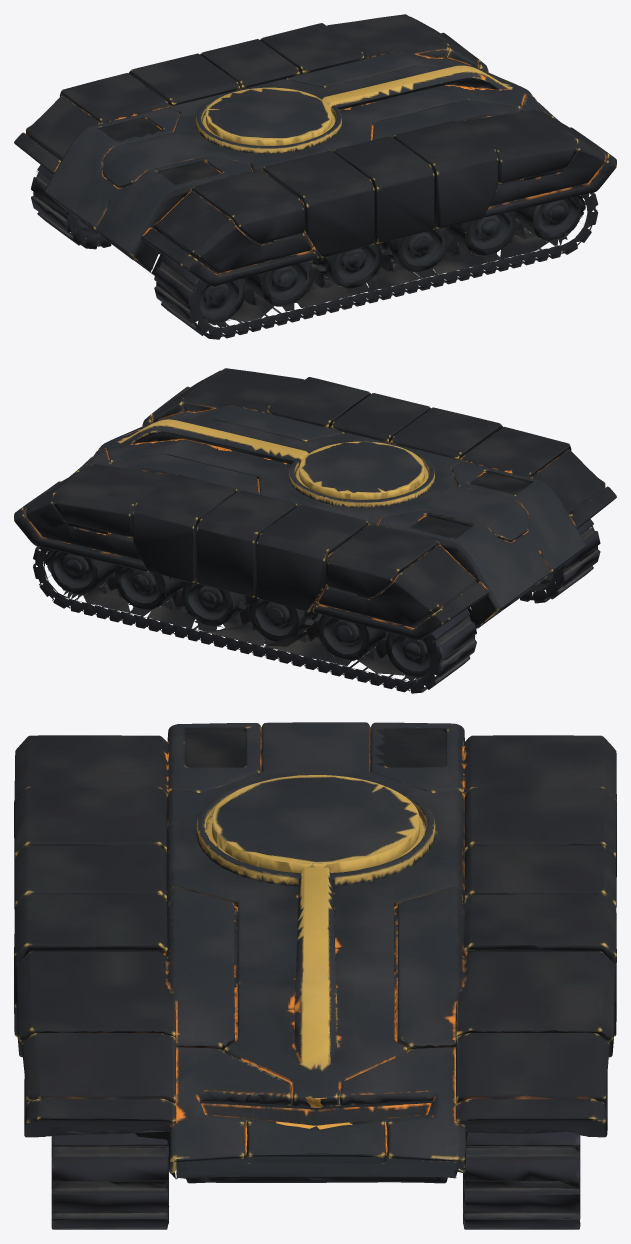
File: chassis-vanguard-2-full.glb
3 views of the same model, one above another, from view 1: azimuth 30°, elevation 25°; view 2: azimuth 150°, elevation 25°; view 3: azimuth 270°, elevation 25° (orthographic). The views are drawn at different scales.
Visible parts, largest first — view 1: chassis-vanguard-2-full; view 2: chassis-vanguard-2-full; view 3: chassis-vanguard-2-full.
Boxes of the visible parts, <box> form: chassis-vanguard-2-full: <box>14,14,616,339</box>; chassis-vanguard-2-full: <box>14,368,616,693</box>; chassis-vanguard-2-full: <box>14,722,616,1229</box>.
Bounding box in the file's own units: 2.7 × 0.7735 × 1.84.
Materials: 1 (1 with a texture image).
